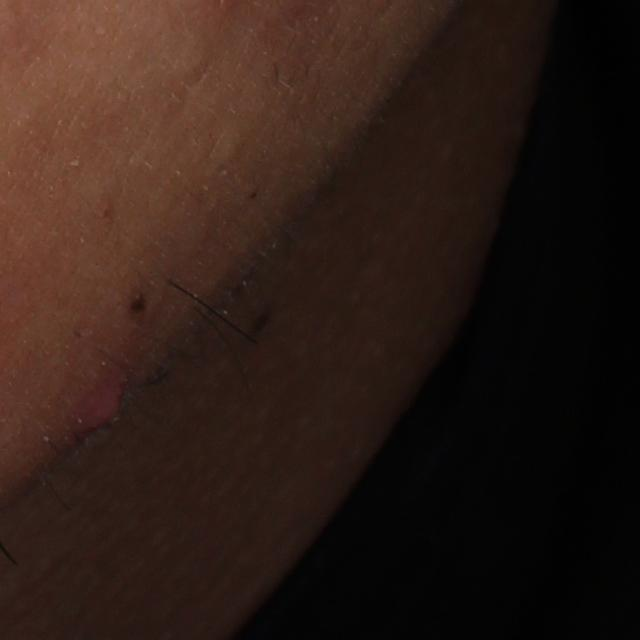nevus: (127, 288, 154, 327)
papule: (67, 368, 129, 443)
